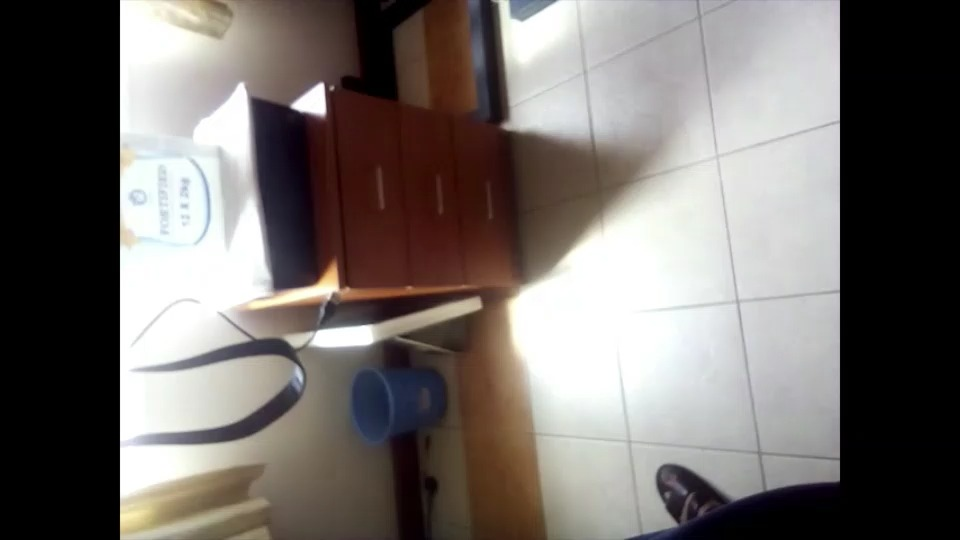wheat_flour_blue_label: (123, 145, 223, 245)
